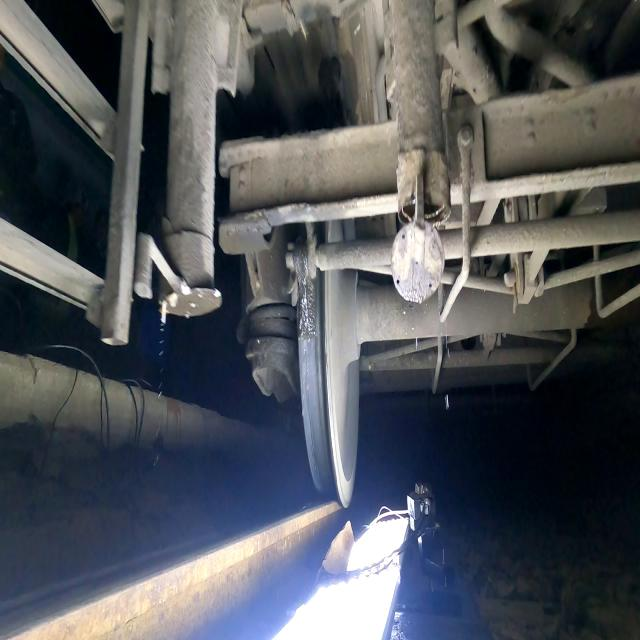Cracks-Scratches: (324, 321, 337, 483)
Wheel: (299, 271, 360, 507)
